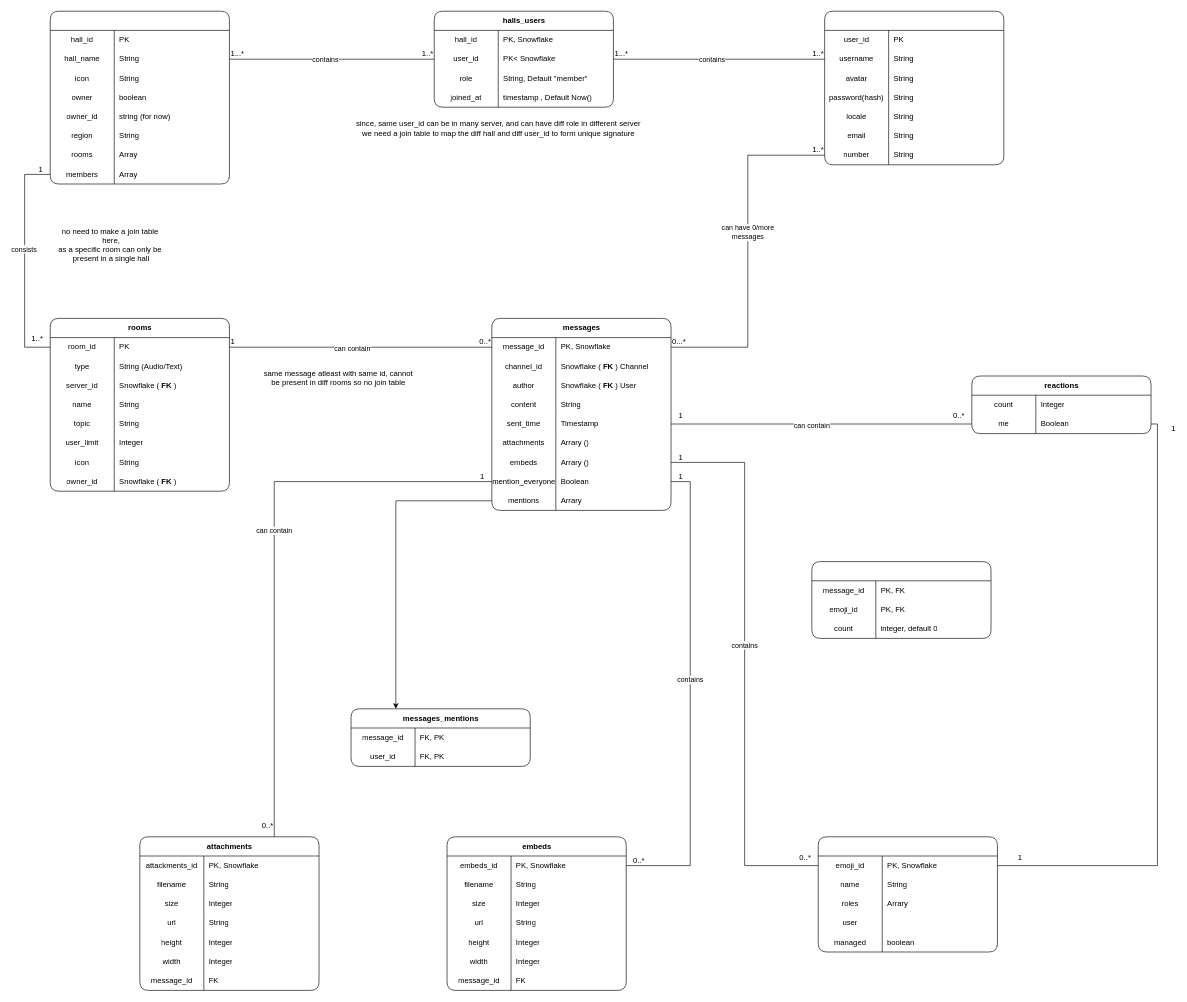
This 1187x1002 diagram has some shape labels left out. The box of each missing label's shape, as (x1, y1, x2, y2) in pixels:
emojis: (818, 836, 997, 952)
halls: (50, 11, 229, 184)
messages_reactions: (811, 561, 991, 638)
users: (824, 11, 1004, 165)
